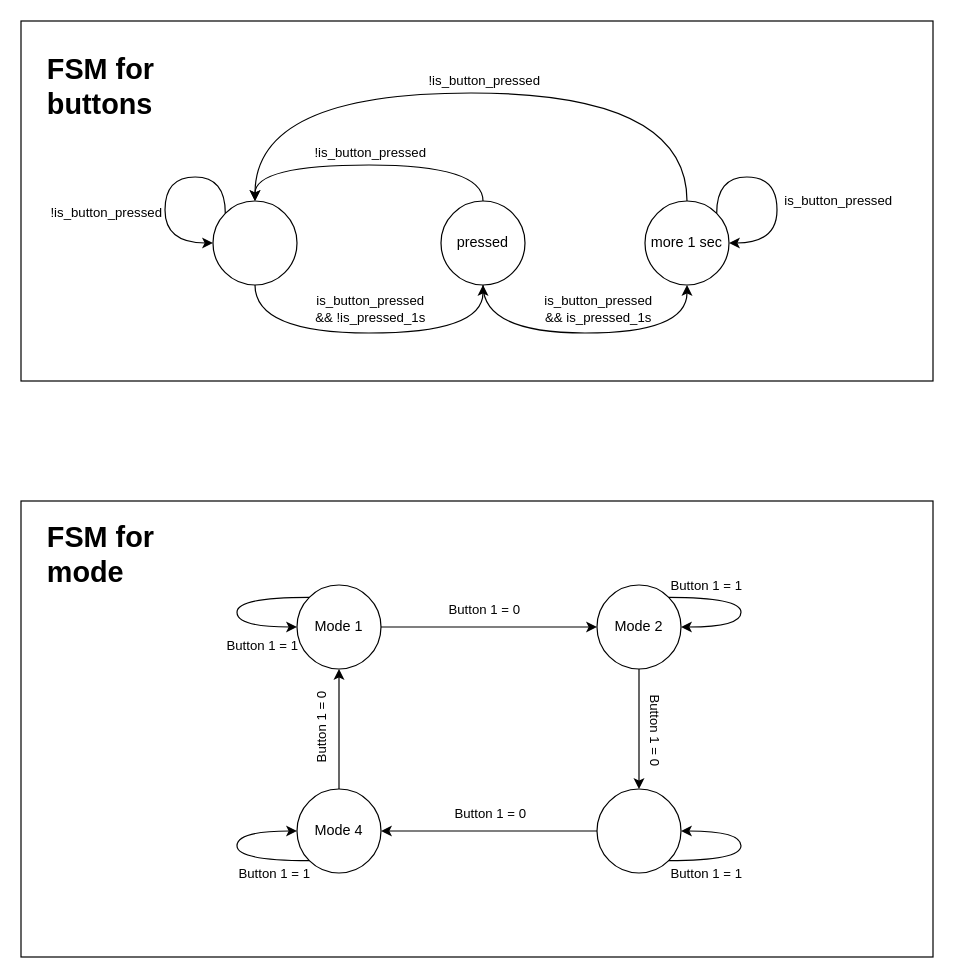
This 954x978 diagram has some shape labels left out. Each missing label, with the centre of its shape:
Mode 3: (x=638, y=830)
released: (x=254, y=242)
